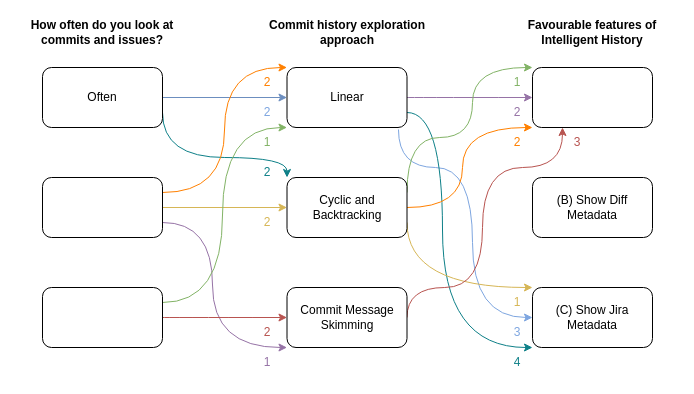
Image size: 694x394. Some labels were removed from this diagram. Here are the shapes that lost their labels. From the top down, the centre of each, then its label:
At point 592,97: "(A) Highlight Important Commits".
At point 102,207: "Sometimes".
At point 102,317: "Rarely".
